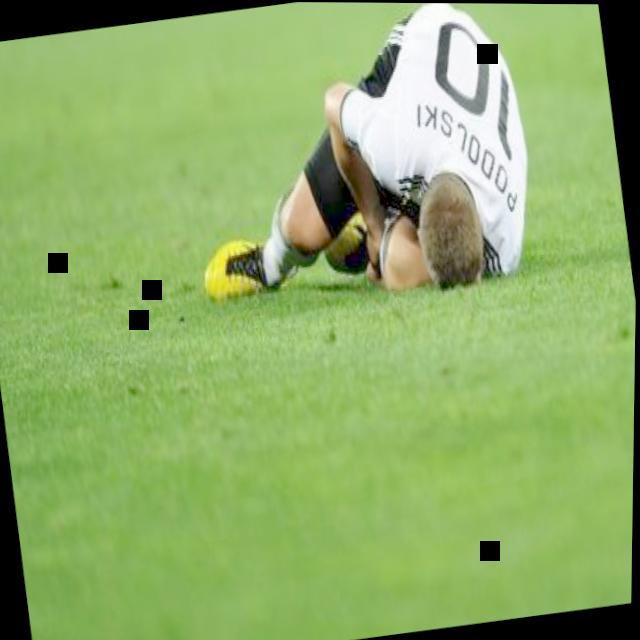Fall-Detected: (174, 1, 556, 328)
